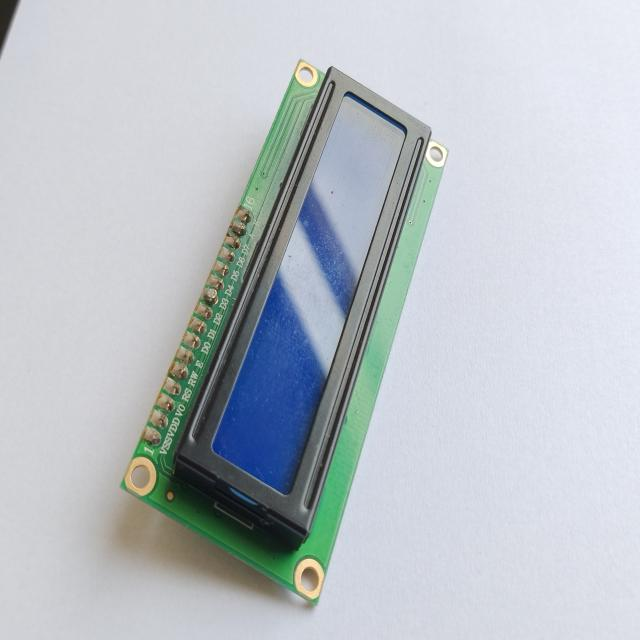lcd: (120, 58, 448, 605)
